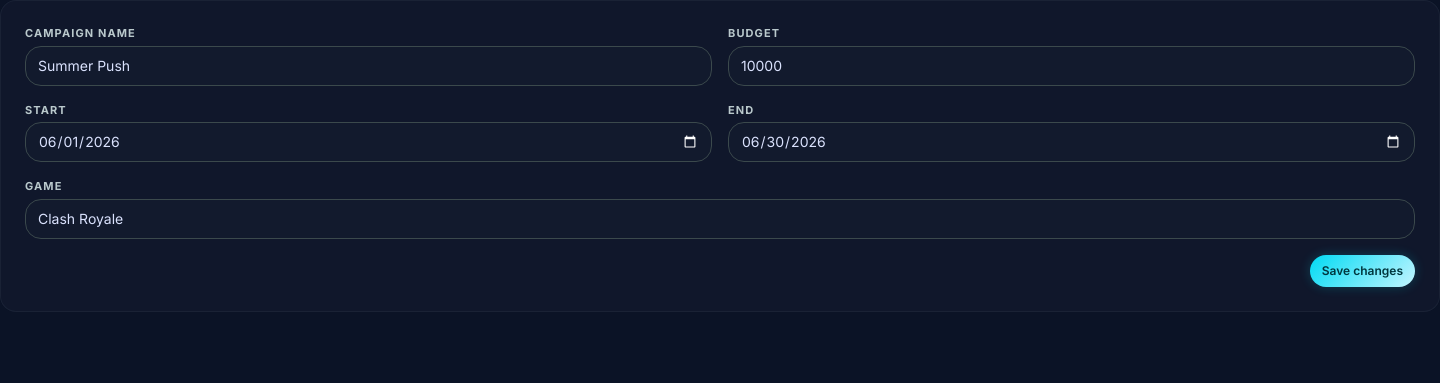
Scenario: CampaignEditForm › shows the saved banner after a successful save
Click the button with test id "campaign-edit-save": (1362, 270) [1310,254,1415,286]
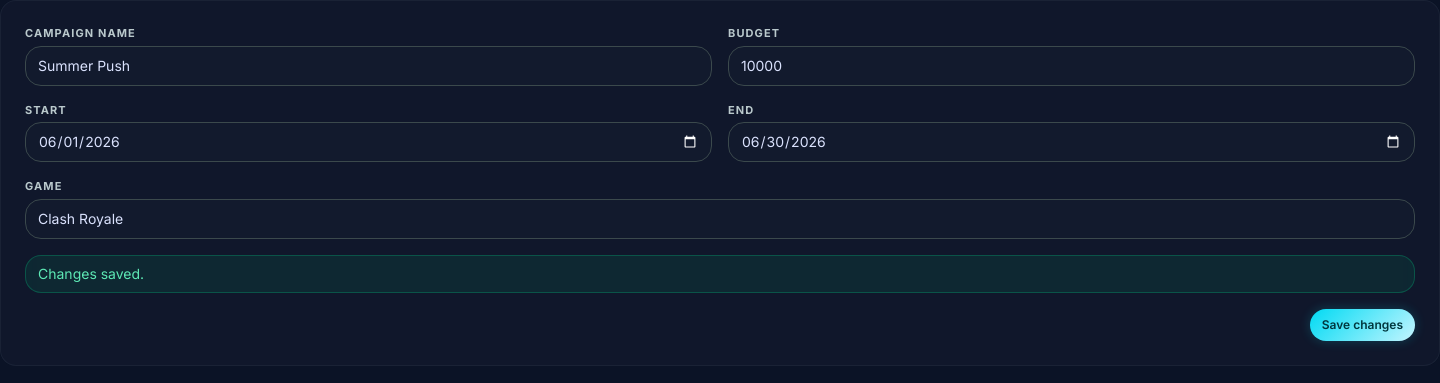
Check: the message with test id "campaign-edit-saved" reads "Changes saved.", box [38,264,144,282]
